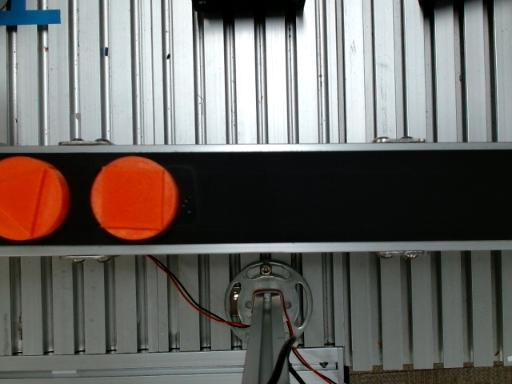Orange_Waper: (91, 156, 178, 239), (0, 156, 69, 241)
Square: (102, 168, 165, 229)
